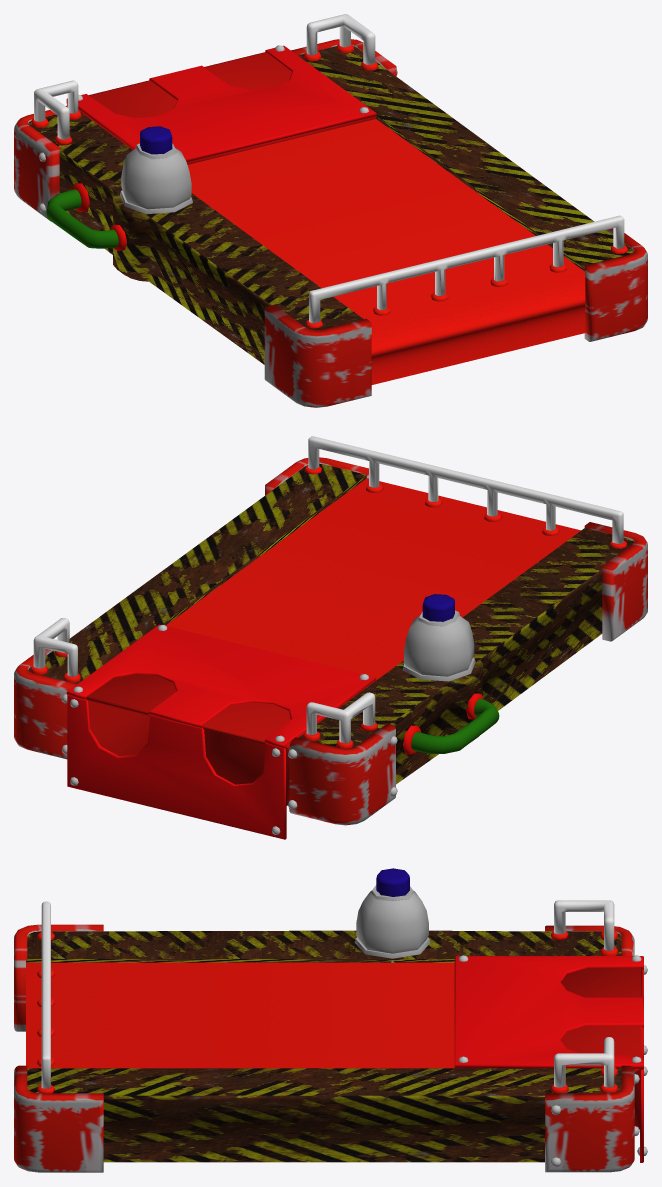
The model's file is mario escena.fbx.
3 renders of one model, top to bottom at view 1: azimuth 30°, elevation 25°; view 2: azimuth 150°, elevation 25°; view 3: azimuth 270°, elevation 25°, orthographic. The views are drawn at different scales.
Visible parts, largest first — view 1: Cube, Cube.022, Cube.008, Cube.005, Cube.026, Cube.002, Cube.024, Circle.001, Cube.029, Cube.027, Cube.013, Cube.025 (+1 smaller); view 2: Cube, Cube.022, Cube.008, Cube.005, Cube.006, Cube.002, Cube.026, Cube.024, Circle.001, Cube.027, Cube.029, Cube.013 (+2 smaller); view 3: Cube.022, Cube, Cube.008, Cube.005, Cube.002, Cube.024, Cube.026, Cube.029, Cube.027, Cube.013, Cube.025, Cube.028.
Boxes of the visible parts, x1,y1,x2,y2 form: Cube: [187, 119, 585, 384]; Cube.022: [28, 46, 633, 364]; Cube.008: [14, 39, 647, 407]; Cube.005: [66, 45, 376, 161]; Cube.026: [309, 215, 624, 323]; Cube.002: [66, 52, 375, 164]; Cube.024: [120, 143, 192, 214]; Circle.001: [46, 189, 118, 248]; Cube.029: [306, 14, 375, 64]; Cube.027: [34, 80, 78, 139]; Cube.013: [31, 43, 627, 328]; Cube.025: [140, 126, 172, 154]; Cube: [166, 478, 580, 680]; Cube.022: [28, 463, 633, 784]; Cube.008: [14, 457, 647, 825]; Cube.005: [66, 624, 376, 747]; Cube.006: [67, 695, 286, 839]; Cube.002: [86, 674, 376, 806]; Cube.026: [308, 436, 623, 543]; Cube.024: [402, 610, 475, 681]; Circle.001: [411, 698, 499, 753]; Cube.027: [306, 692, 375, 743]; Cube.029: [33, 618, 77, 676]; Cube.013: [30, 465, 626, 748]; Cube.022: [26, 930, 621, 1162]; Cube: [26, 962, 454, 1068]; Cube.008: [14, 924, 634, 1172]; Cube.005: [454, 956, 643, 1068]; Cube.002: [561, 967, 642, 1129]; Cube.024: [354, 885, 430, 962]; Cube.026: [41, 901, 50, 1088]; Cube.029: [554, 1037, 614, 1087]; Cube.027: [554, 900, 614, 950]; Cube.013: [37, 930, 618, 1093]; Cube.025: [376, 868, 409, 896]; Cube.028: [458, 955, 647, 1166].
Bounding box in the file's own units: 1325 × 519 × 1829.
12 materials, 3 textured.
